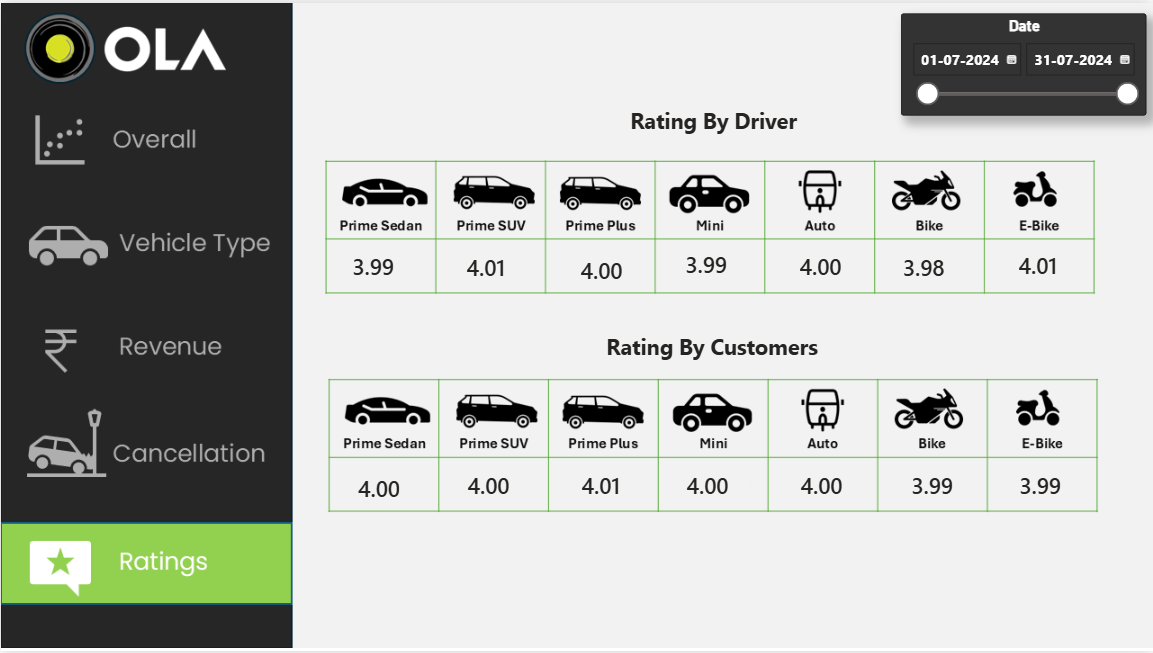

This screenshot's page, from the dashboard's own definition file:
{"tool":"powerbi","page":{"name":"Ratings","canvas":[1280,720],"ordinal":4},"visuals":[{"type":"actionButton","box":[0,220.5,322.9,91.4],"z":0},{"type":"actionButton","box":[0,108.7,322.9,91.4],"z":1000},{"type":"actionButton","box":[0,338.6,322.9,91.4],"z":2000},{"type":"actionButton","box":[0,447.3,322.9,91.4],"z":3000},{"type":"cardVisual","fields":{"Data":["Avg(ola bookings.Driver_Ratings)"]},"box":[361.7,261.7,121.7,58.3],"z":4000},{"type":"cardVisual","fields":{"Data":["Avg(ola bookings.Driver_Ratings)"]},"box":[488.3,261.7,103.3,60],"z":5000},{"type":"cardVisual","fields":{"Data":["Avg(ola bookings.Driver_Ratings)"]},"box":[615,265,108.3,60],"z":6000},{"type":"cardVisual","fields":{"Data":["Avg(ola bookings.Driver_Ratings)"]},"box":[731.7,260,110,58.3],"z":7000},{"type":"cardVisual","fields":{"Data":["Avg(ola bookings.Driver_Ratings)"]},"box":[858.3,261.7,106.7,58.3],"z":8000},{"type":"cardVisual","fields":{"Data":["Avg(ola bookings.Driver_Ratings)"]},"box":[973.3,261.7,116.7,60],"z":9000},{"type":"cardVisual","fields":{"Data":["Avg(ola bookings.Driver_Ratings)"]},"box":[1101.7,260,105,61.7],"z":10000},{"type":"textbox","box":[683.3,108.3,216.7,58.3],"z":11000},{"type":"textbox","box":[655.2,359.4,270,49.6],"z":12000},{"type":"cardVisual","fields":{"Data":["Avg(ola bookings.Customer_Rating)"]},"box":[366.7,506.7,116.7,61.7],"z":13000},{"type":"cardVisual","fields":{"Data":["Avg(ola bookings.Customer_Rating)"]},"box":[488.3,503.3,115,61.7],"z":14000},{"type":"cardVisual","fields":{"Data":["Avg(ola bookings.Customer_Rating)"]},"box":[615,503.3,110,61.7],"z":15000},{"type":"cardVisual","fields":{"Data":["Avg(ola bookings.Customer_Rating)"]},"box":[731.7,503.3,120,61.7],"z":16000},{"type":"cardVisual","fields":{"Data":["Avg(ola bookings.Customer_Rating)"]},"box":[858.3,503.3,123.3,61.7],"z":17000},{"type":"cardVisual","fields":{"Data":["Avg(ola bookings.Customer_Rating)"]},"box":[981.7,503.3,108.3,61.7],"z":18000},{"type":"cardVisual","fields":{"Data":["Avg(ola bookings.Customer_Rating)"]},"box":[1101.7,503.3,116.7,61.7],"z":19000},{"type":"slicer","title":"Date","fields":{"Values":["ola bookings.Date"]},"box":[1000.3,12.4,273,113.2],"z":20000}]}

Visuals, with their boxes in screenshot pixels (x1, y1, x2, y2), scaled from the page's 1280x720 canvas onto the 1153x653 screenshot:
actionButton: locate(0, 200, 291, 283)
actionButton: locate(0, 99, 291, 181)
actionButton: locate(0, 307, 291, 390)
actionButton: locate(0, 406, 291, 489)
cardVisual - Avg(ola bookings.Driver_Ratings): locate(326, 237, 435, 290)
cardVisual - Avg(ola bookings.Driver_Ratings): locate(440, 237, 533, 292)
cardVisual - Avg(ola bookings.Driver_Ratings): locate(554, 240, 652, 295)
cardVisual - Avg(ola bookings.Driver_Ratings): locate(659, 236, 758, 289)
cardVisual - Avg(ola bookings.Driver_Ratings): locate(773, 237, 869, 290)
cardVisual - Avg(ola bookings.Driver_Ratings): locate(877, 237, 982, 292)
cardVisual - Avg(ola bookings.Driver_Ratings): locate(992, 236, 1087, 292)
textbox: locate(616, 98, 811, 151)
textbox: locate(590, 326, 833, 371)
cardVisual - Avg(ola bookings.Customer_Rating): locate(330, 460, 435, 516)
cardVisual - Avg(ola bookings.Customer_Rating): locate(440, 456, 543, 512)
cardVisual - Avg(ola bookings.Customer_Rating): locate(554, 456, 653, 512)
cardVisual - Avg(ola bookings.Customer_Rating): locate(659, 456, 767, 512)
cardVisual - Avg(ola bookings.Customer_Rating): locate(773, 456, 884, 512)
cardVisual - Avg(ola bookings.Customer_Rating): locate(884, 456, 982, 512)
cardVisual - Avg(ola bookings.Customer_Rating): locate(992, 456, 1098, 512)
"Date" slicer: locate(901, 11, 1147, 114)
